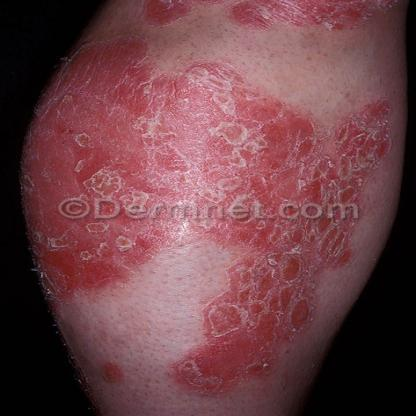Psoriasis: (65, 76, 384, 196), (197, 236, 336, 396), (116, 0, 413, 37)
